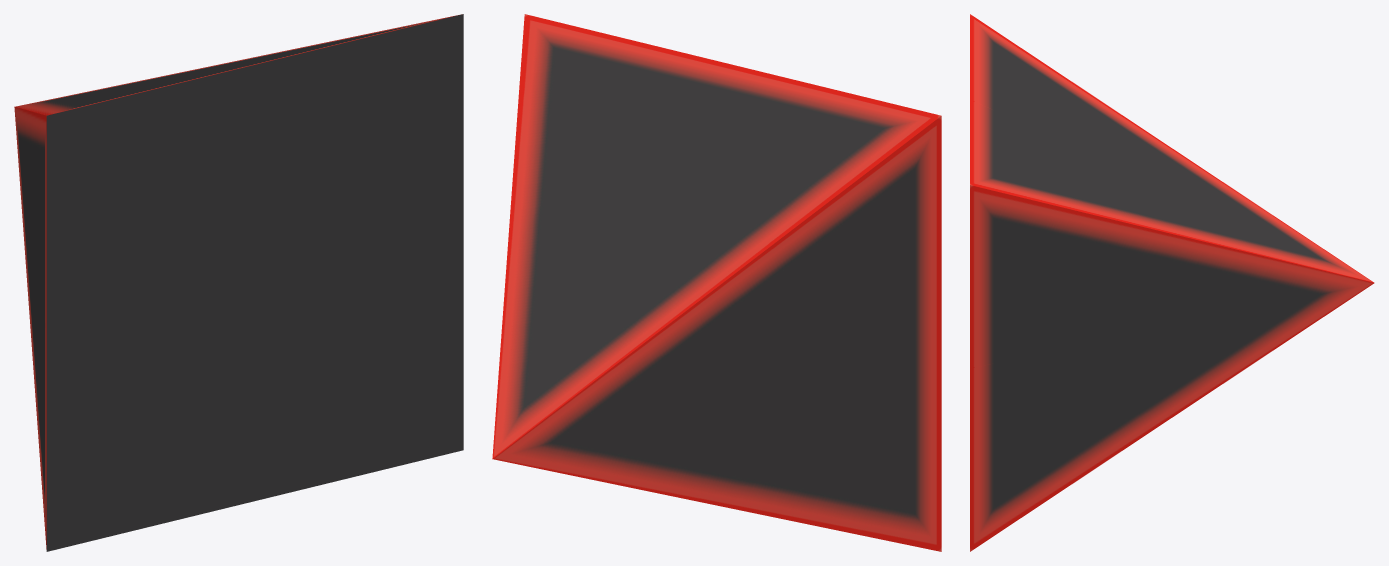
The picture shows the model from 3 angles, left to right: view 1: azimuth 30°, elevation 25°; view 2: azimuth 150°, elevation 25°; view 3: azimuth 270°, elevation 25°; orthographic projection. The views are drawn at different scales.
Visible parts, largest first — view 1: Box001; view 2: Box001; view 3: Box001.
Part boxes in pixels (bbox=[...]): Box001: bbox=[14, 14, 463, 551]; Box001: bbox=[492, 14, 941, 551]; Box001: bbox=[970, 14, 1374, 551].
Size of the model in its own units: 56.57 by 56.57 by 56.57.
Materials: 1 (1 with a texture image).
